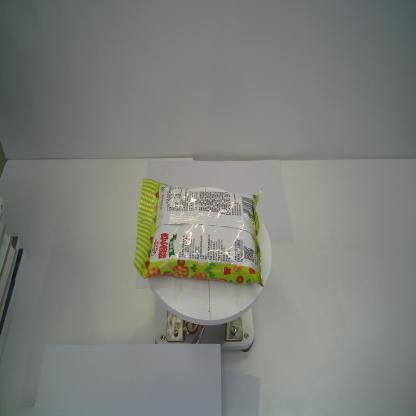Puffed Food: (134, 176, 264, 288)
